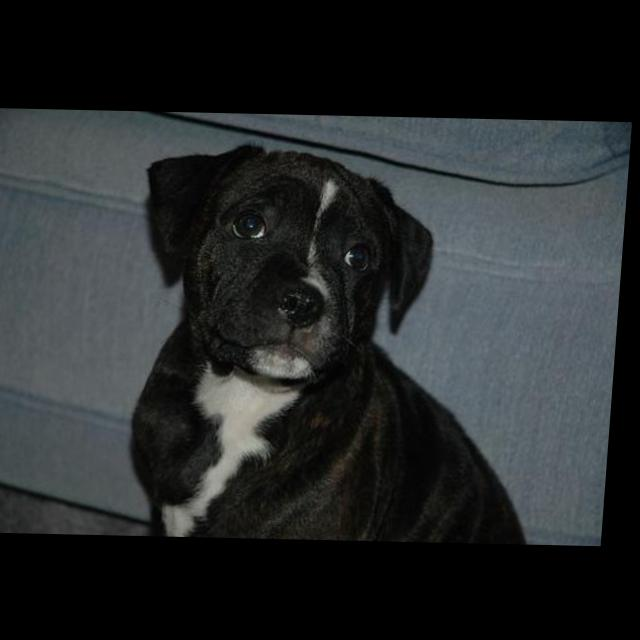staffford: (129, 140, 564, 543)
